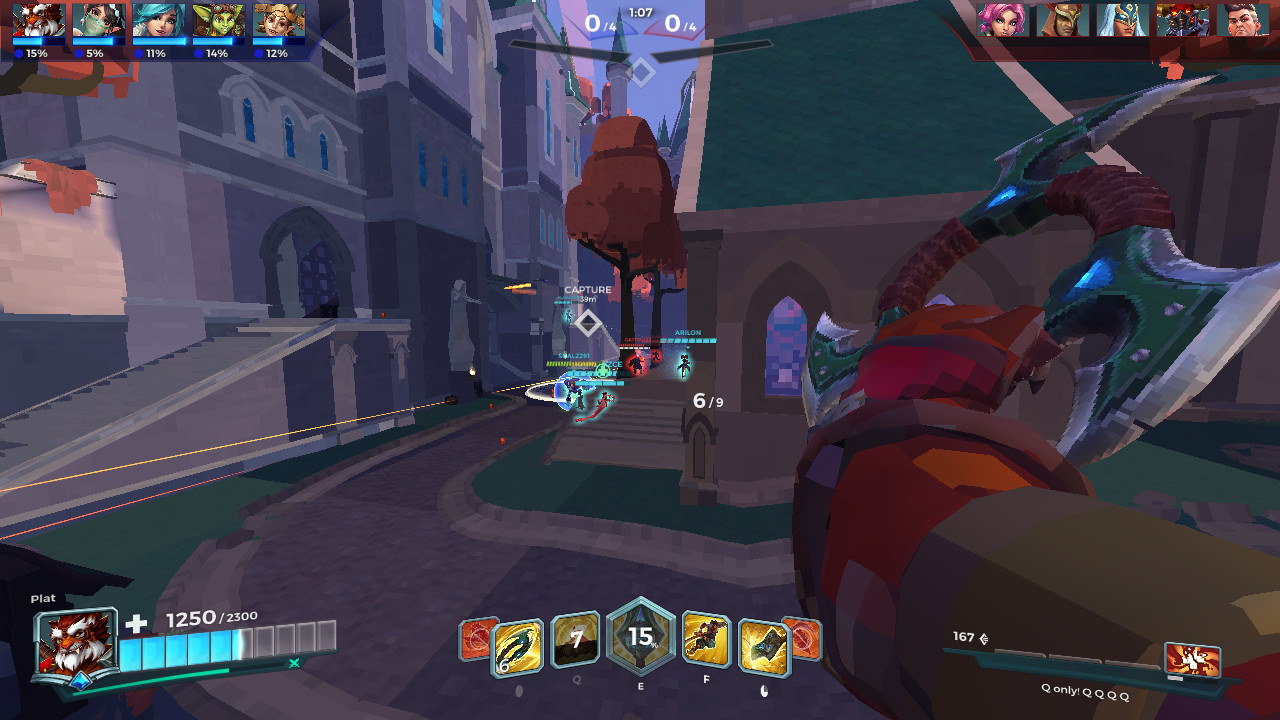model: (623, 354, 644, 377), (648, 345, 662, 366)
